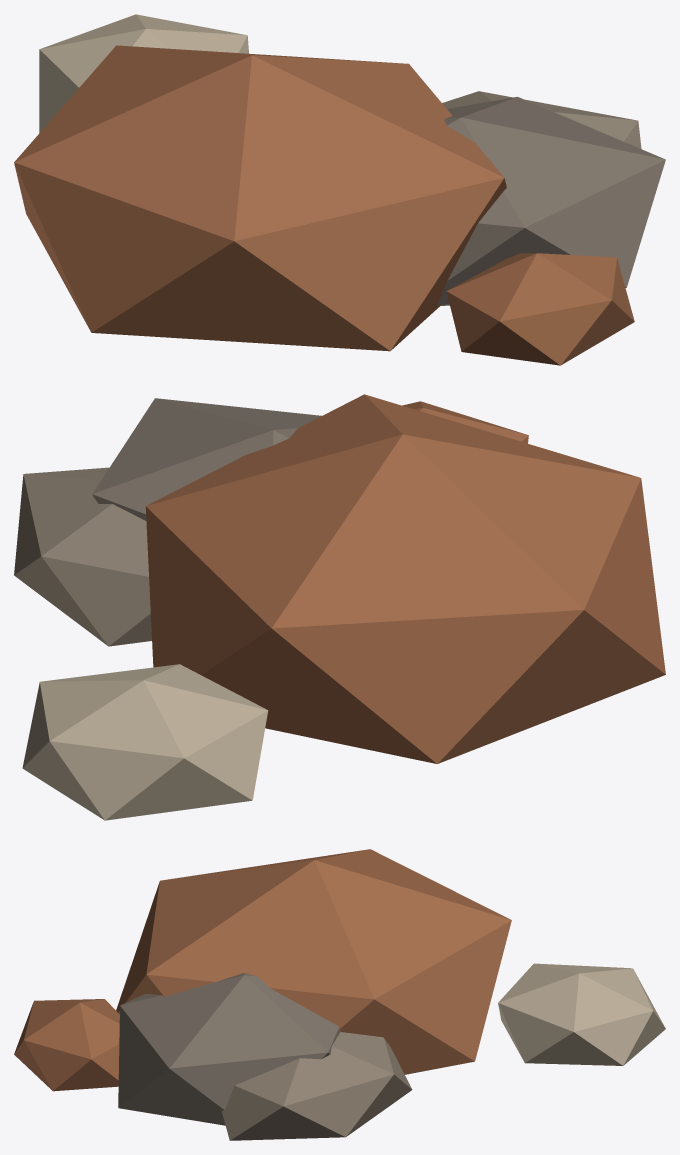
File: river-stones-b.glb
3 views of the same model, one above another, from view 1: azimuth 30°, elevation 25°; view 2: azimuth 150°, elevation 25°; view 3: azimuth 270°, elevation 25° (orthographic). The views are drawn at different scales.
Visible parts, largest first — view 1: river-stones-b; view 2: river-stones-b; view 3: river-stones-b.
Boxes of the visible parts, x1,y1,x2,y2 form: river-stones-b: (14, 14, 665, 365); river-stones-b: (14, 394, 665, 820); river-stones-b: (14, 849, 665, 1140).
Bounding box in the file's own units: 1.64 × 0.7256 × 2.1.
